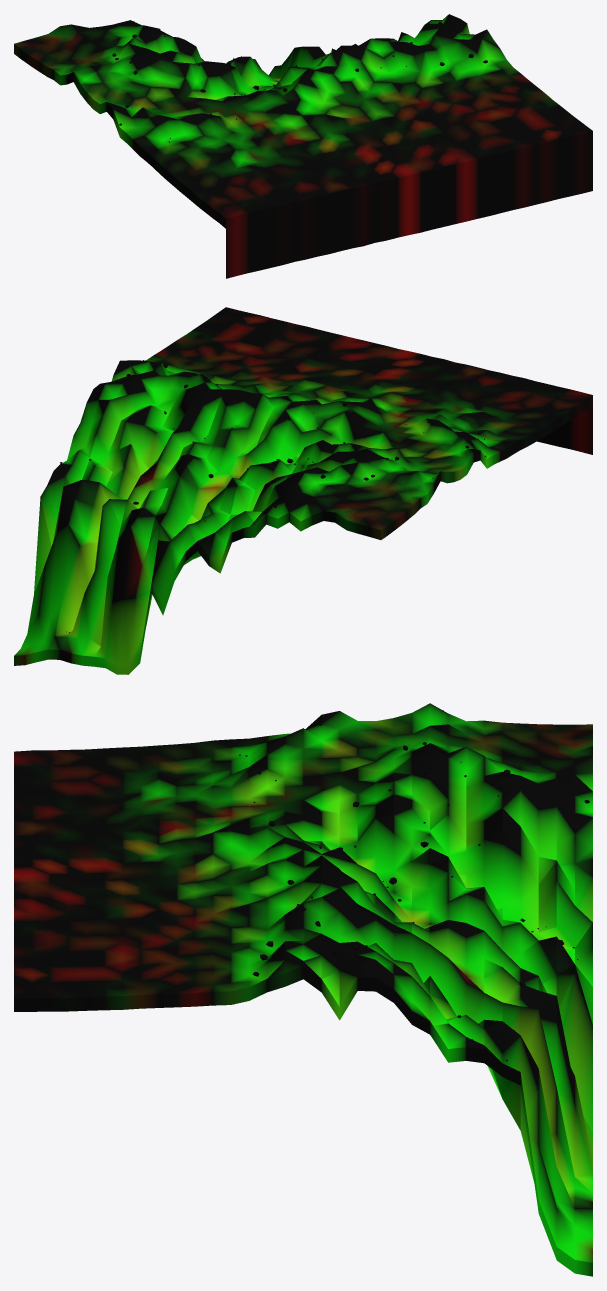
Rendered from Terrain_07_05.fbx.
3 renders of one model, top to bottom at view 1: azimuth 30°, elevation 25°; view 2: azimuth 150°, elevation 25°; view 3: azimuth 270°, elevation 25°, orthographic. The views are drawn at different scales.
Parts seen in each view (by area): view 1: Terrain_07_05_LOD0; view 2: Terrain_07_05_LOD0; view 3: Terrain_07_05_LOD0.
Boxes of the visible parts, x1,y1,x2,y2 form: Terrain_07_05_LOD0: (14, 14, 592, 278); Terrain_07_05_LOD0: (14, 307, 592, 674); Terrain_07_05_LOD0: (14, 703, 592, 1276).
Size of what is drawn, in the model's own units: 384 by 242 by 384.
